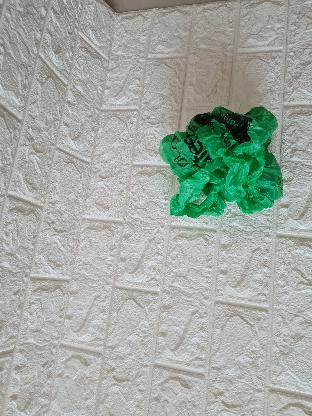Plastic Bag: (158, 106, 288, 222)
